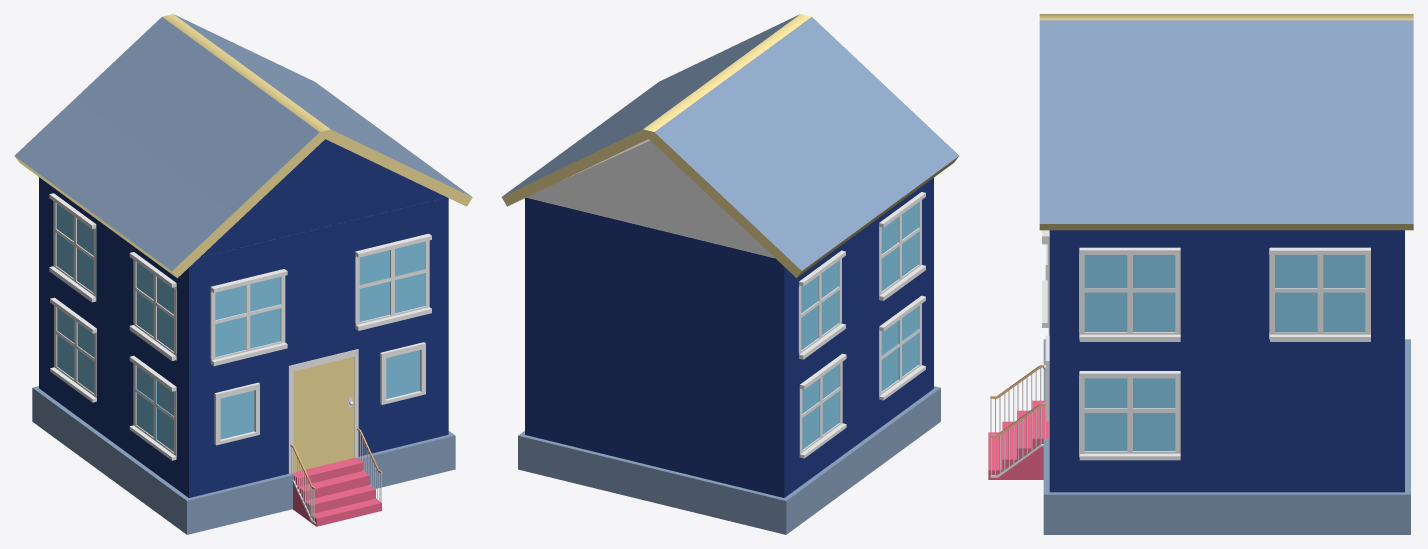
File: house.fbx
3 views of the same model, side by side, from view 1: azimuth 30°, elevation 25°; view 2: azimuth 150°, elevation 25°; view 3: azimuth 270°, elevation 25° (orthographic). The views are drawn at different scales.
Visible parts, largest first — view 1: house; view 2: house; view 3: house.
Part boxes in pixels (x1,y1,x2,y2): house: [14, 14, 472, 534]; house: [501, 14, 959, 534]; house: [988, 14, 1413, 534].
Bounding box in the file's own units: 229 × 271 × 237.
